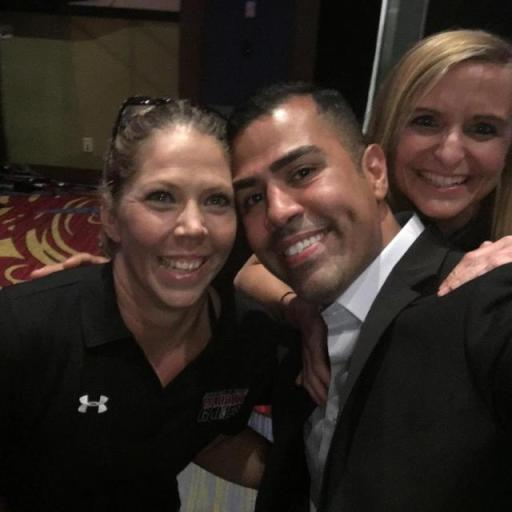Under Armour: (75, 388, 111, 416)
